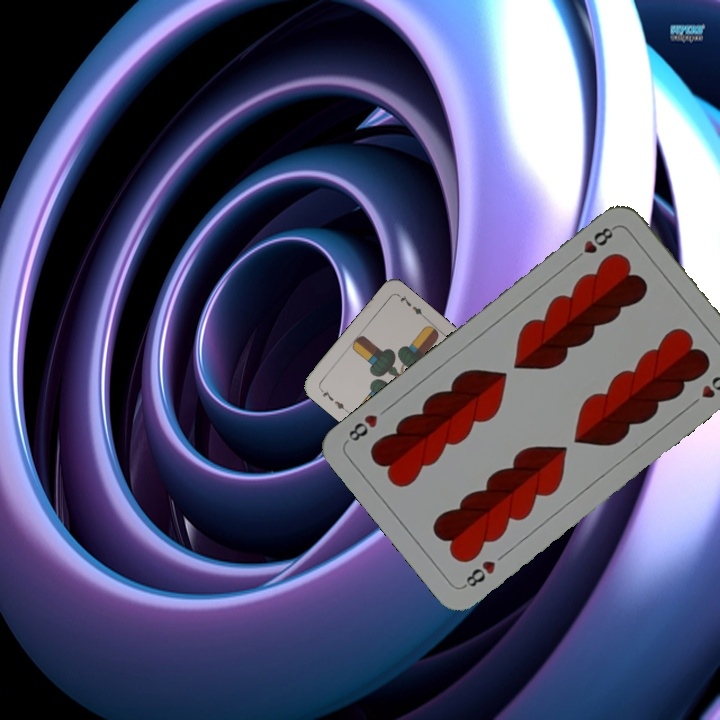E7: (316, 384, 350, 414)
H8: (569, 222, 618, 264), (459, 556, 499, 591)
